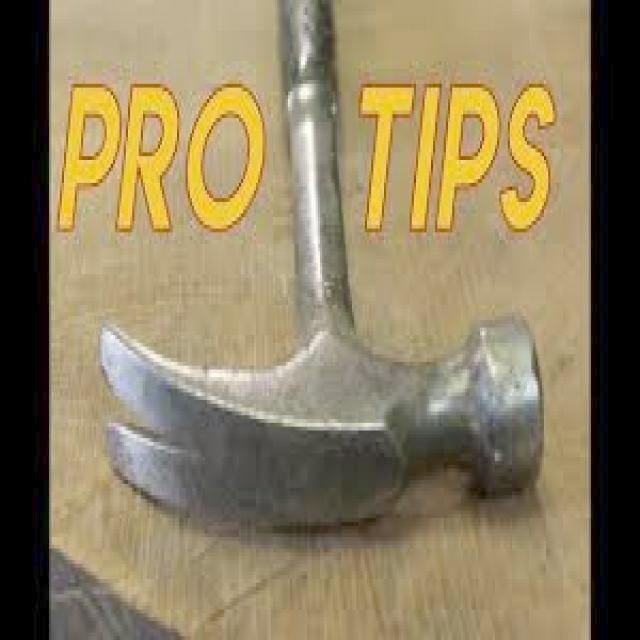hammer: (94, 0, 548, 526)
